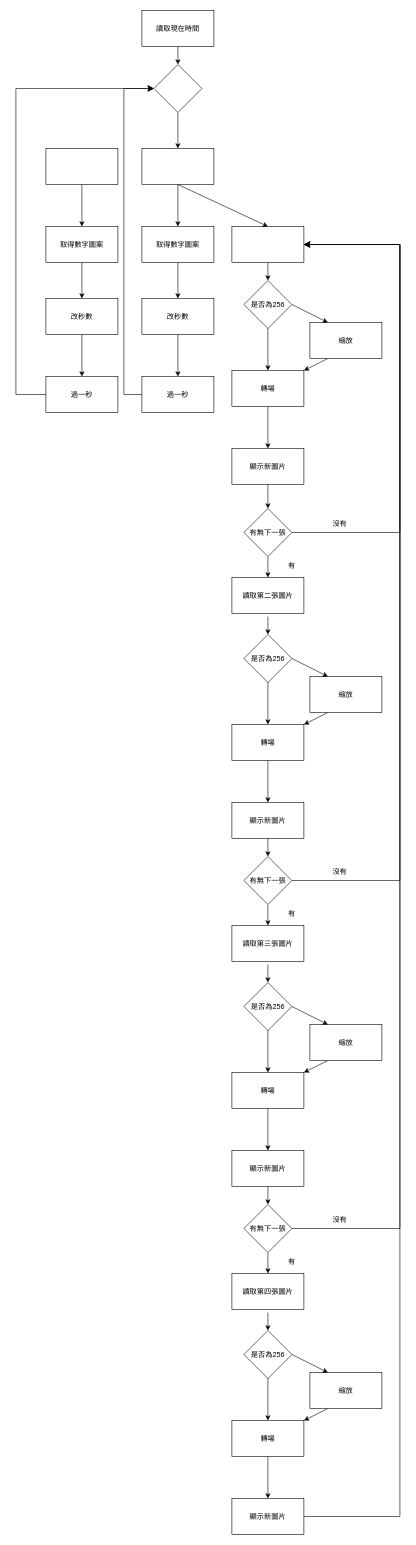
The diagram is 416 pixels wide and 1545 high, and some of its shapes have lost their labels. The shapes that lost their labels are listed below. From the top down, each one's centre as x and y in pixels, then its label:
[177,88]: 判斷奇偶
[81,166]: 基數秒
[177,166]: 偶數秒
[267,244]: 讀取第一張圖片
